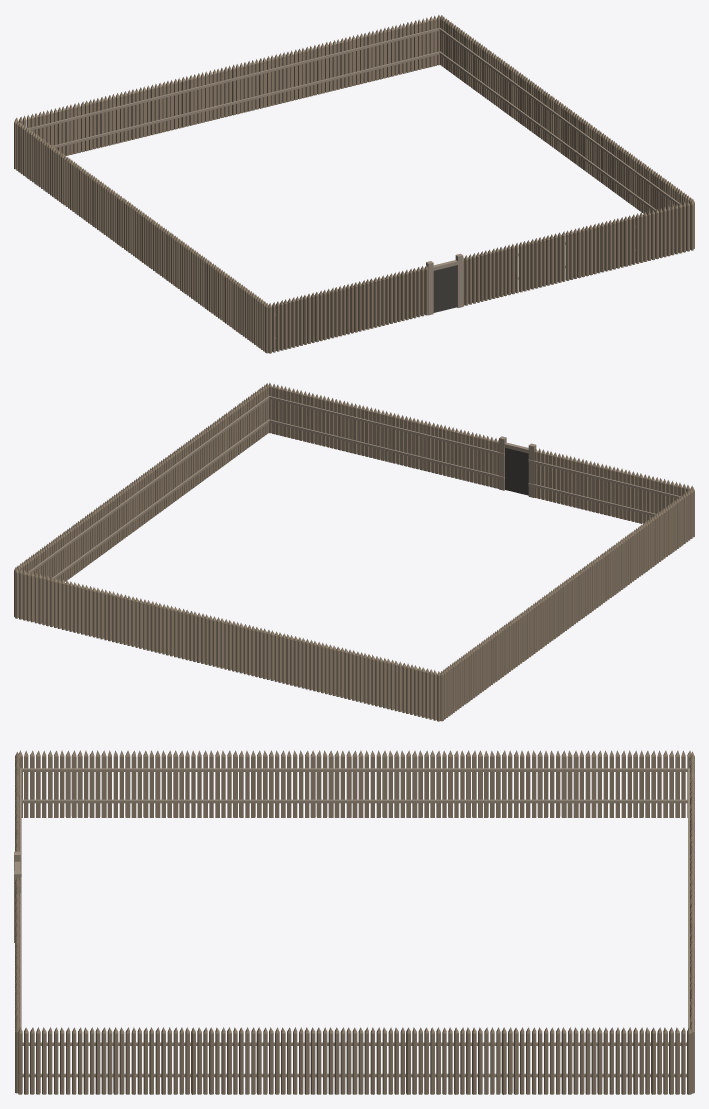
Rendered from first_fort_dearborn_pickets_outer__first_fort_1803.glb.
3 views of the same model, one above another, from view 1: azimuth 30°, elevation 25°; view 2: azimuth 150°, elevation 25°; view 3: azimuth 270°, elevation 25° (orthographic). The views are drawn at different scales.
Parts seen in each view (by area): view 1: first_fort_dearborn_pickets_outer__first_fort_1803; view 2: first_fort_dearborn_pickets_outer__first_fort_1803; view 3: first_fort_dearborn_pickets_outer__first_fort_1803.
Part boxes in pixels (<box>): first_fort_dearborn_pickets_outer__first_fort_1803: <box>14,15,694,353</box>; first_fort_dearborn_pickets_outer__first_fort_1803: <box>14,382,694,721</box>; first_fort_dearborn_pickets_outer__first_fort_1803: <box>14,750,694,1094</box>.
Size of the model in its own units: 33.17 by 3.8 by 34.22.
